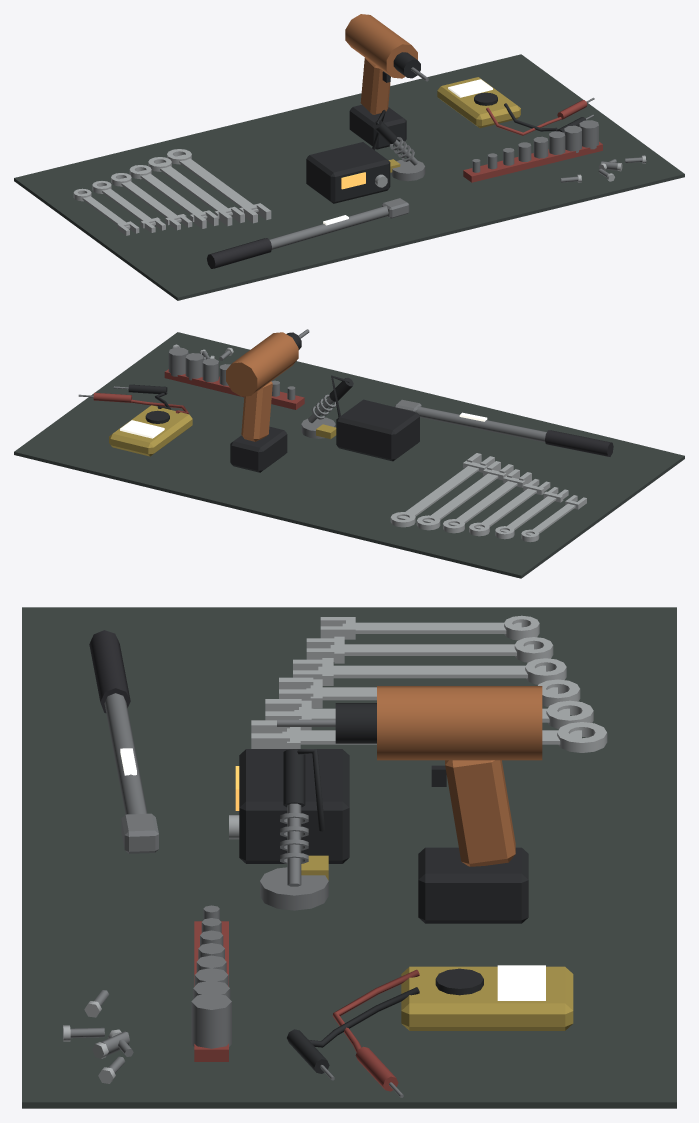
The model's file is astro_rover_tool_set.fbx.
The picture shows the model from 3 angles, top to bottom: view 1: azimuth 30°, elevation 25°; view 2: azimuth 150°, elevation 25°; view 3: azimuth 270°, elevation 25°; orthographic projection. The views are drawn at different scales.
Visible parts, largest first — view 1: RoverToolSet_Body; view 2: RoverToolSet_Body; view 3: RoverToolSet_Body.
Boxes of the visible parts, x1,y1,x2,y2 form: RoverToolSet_Body: [14, 14, 684, 300]; RoverToolSet_Body: [14, 329, 684, 578]; RoverToolSet_Body: [22, 607, 676, 1108].
Bounding box in the file's own units: 171 × 36.9 × 95.
